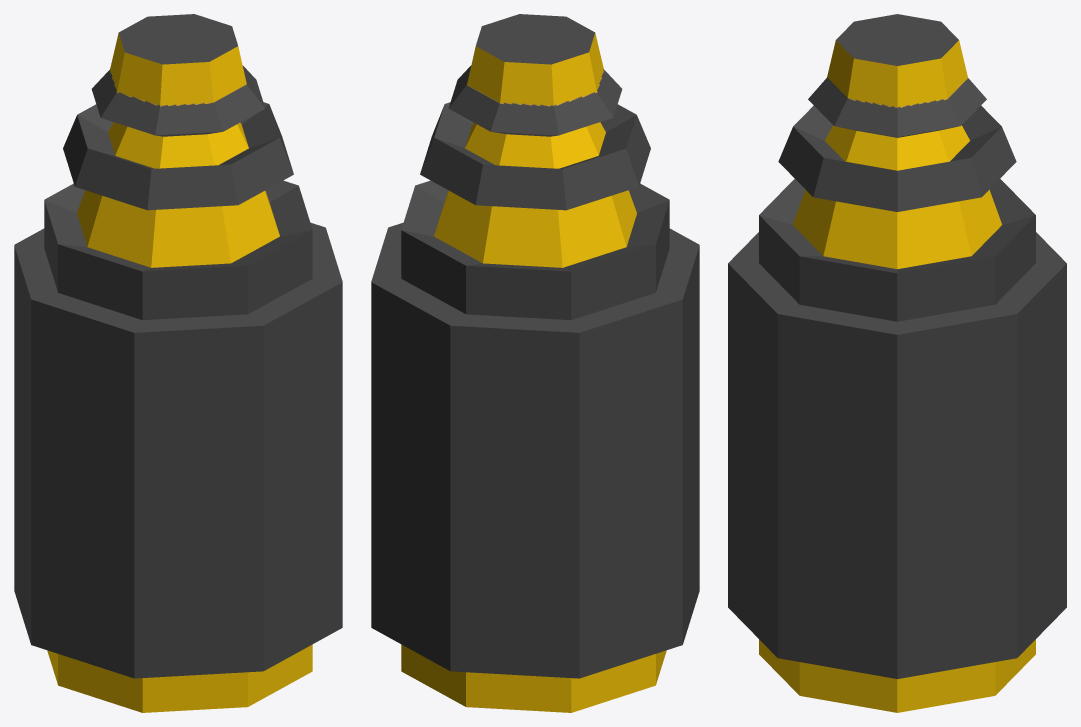
File: Cable Ends.fbx
3 renders of one model, left to right at view 1: azimuth 30°, elevation 25°; view 2: azimuth 150°, elevation 25°; view 3: azimuth 270°, elevation 25°, orthographic.
Visible parts, largest first — view 1: Circle.001; view 2: Circle.001; view 3: Circle.001.
Boxes of the visible parts, box(x1,y1,x2,y2) form: Circle.001: box(14, 14, 342, 712); Circle.001: box(371, 14, 699, 712); Circle.001: box(728, 14, 1066, 712).
Size of the model in its own units: 245 by 490 by 245.
